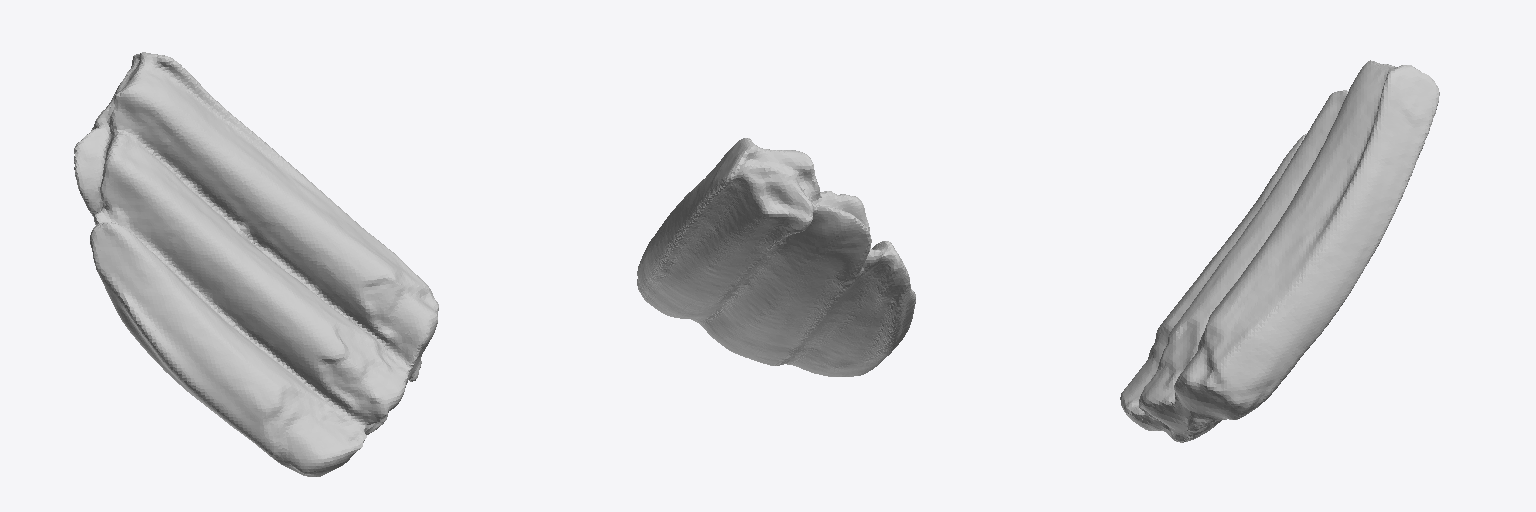
File: MB Ovis 17 M3.obj
3 renders of one model, left to right at view 1: azimuth 30°, elevation 25°; view 2: azimuth 150°, elevation 25°; view 3: azimuth 270°, elevation 25°, orthographic.
Size of the model in its own units: 30.66 by 32.57 by 28.11.